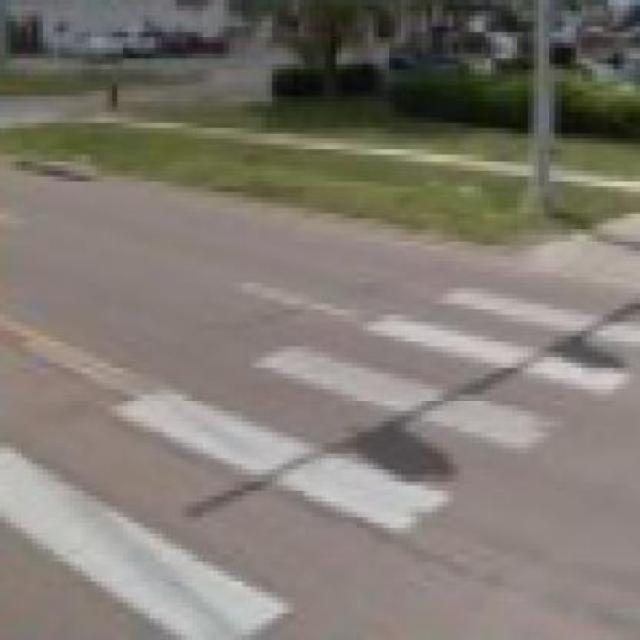crosswalk: (0, 279, 636, 637)
